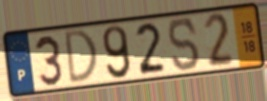2: (133, 20, 169, 78), (202, 11, 236, 71)
3: (32, 32, 65, 88)
9: (100, 23, 132, 81)
D: (64, 28, 100, 87)
S: (167, 16, 202, 74)
